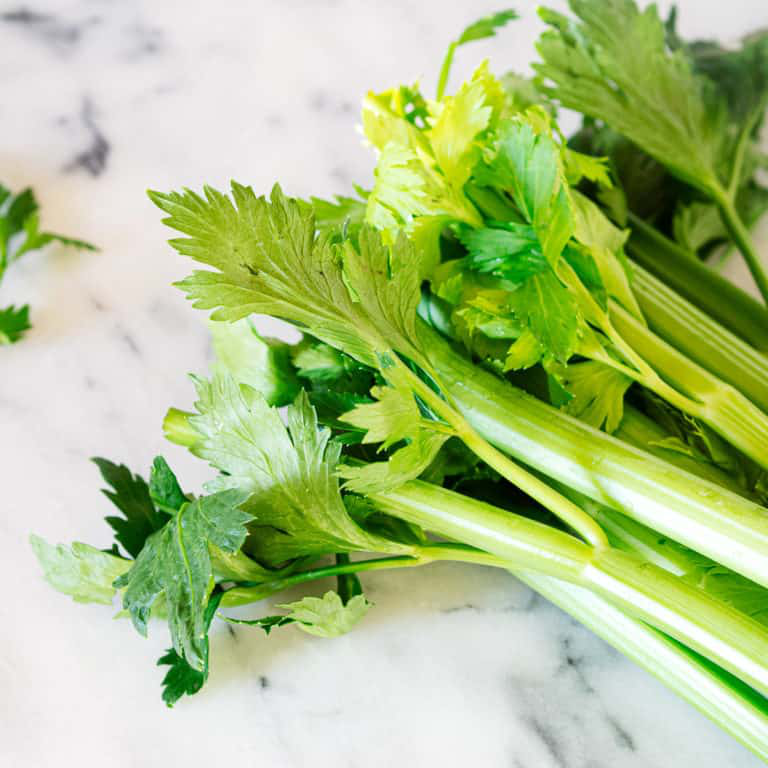Seledri: (97, 48, 768, 736)
